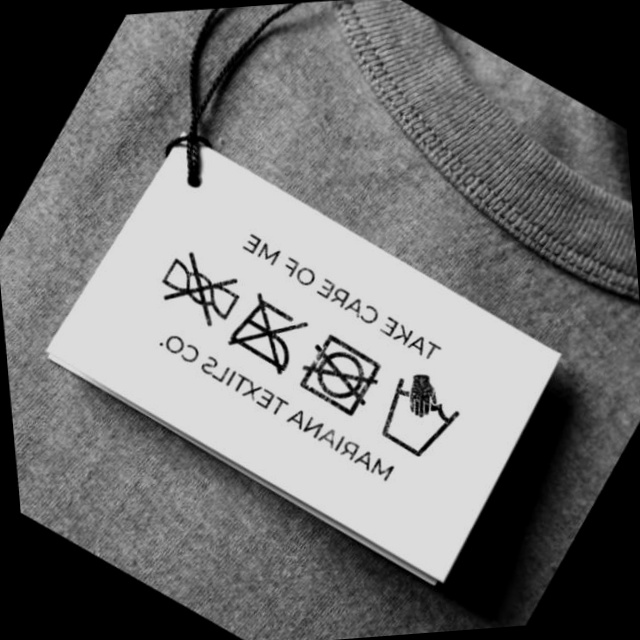DN_iron: (229, 291, 308, 376)
DN_tumble_dry: (301, 331, 386, 414)
DN_wring: (159, 247, 242, 326)
hand_wash: (377, 369, 464, 465)
